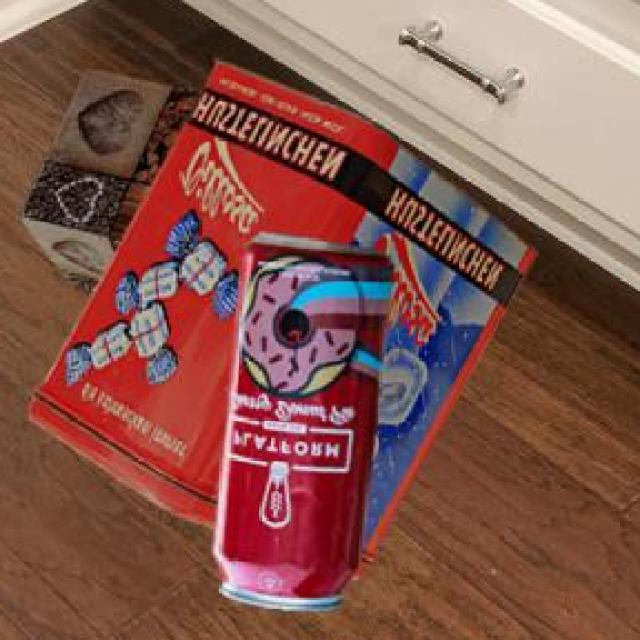logam: (32, 57, 541, 577), (217, 228, 397, 608), (28, 66, 204, 292)
